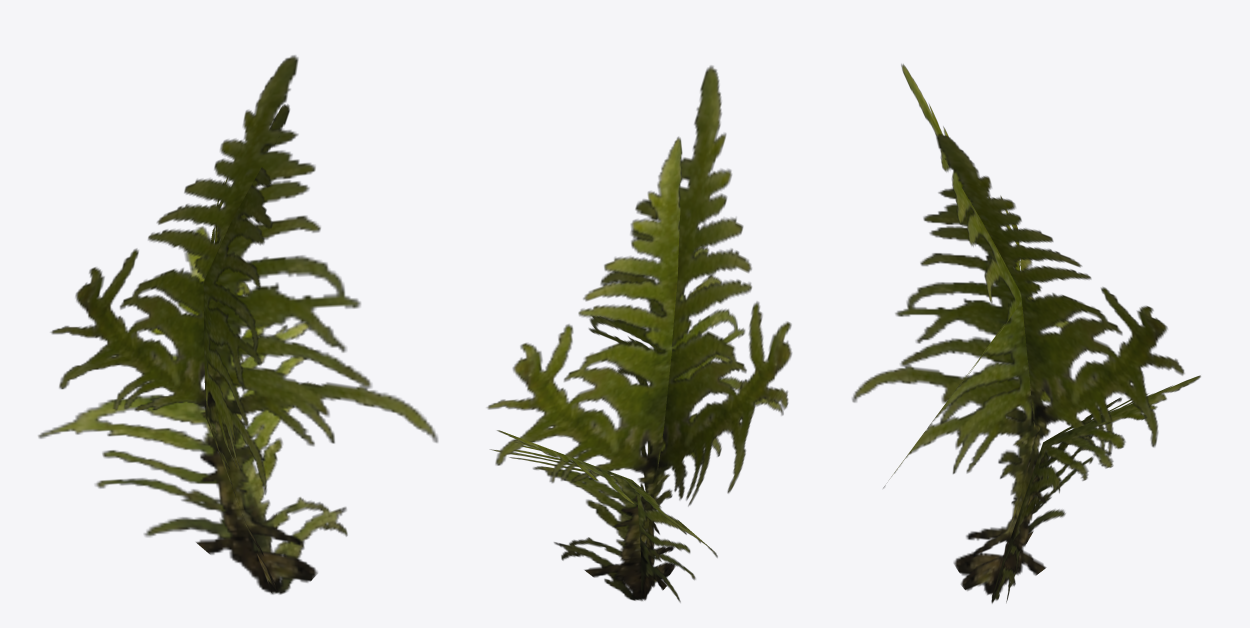
File: moss_06.glb
3 renders of one model, left to right at view 1: azimuth 30°, elevation 25°; view 2: azimuth 150°, elevation 25°; view 3: azimuth 270°, elevation 25°, orthographic. The views are drawn at different scales.
Visible parts, largest first — view 1: IslandMoss06; view 2: IslandMoss06; view 3: IslandMoss06.
Boxes of the visible parts, x1=… form: IslandMoss06: x1=38, y1=55, x2=437, y2=594; IslandMoss06: x1=487, y1=65, x2=791, y2=602; IslandMoss06: x1=852, y1=64, x2=1200, y2=603.
Size of the model in its own units: 0.0142 by 0.026 by 0.0159.
Materials: 1 (1 with a texture image).
